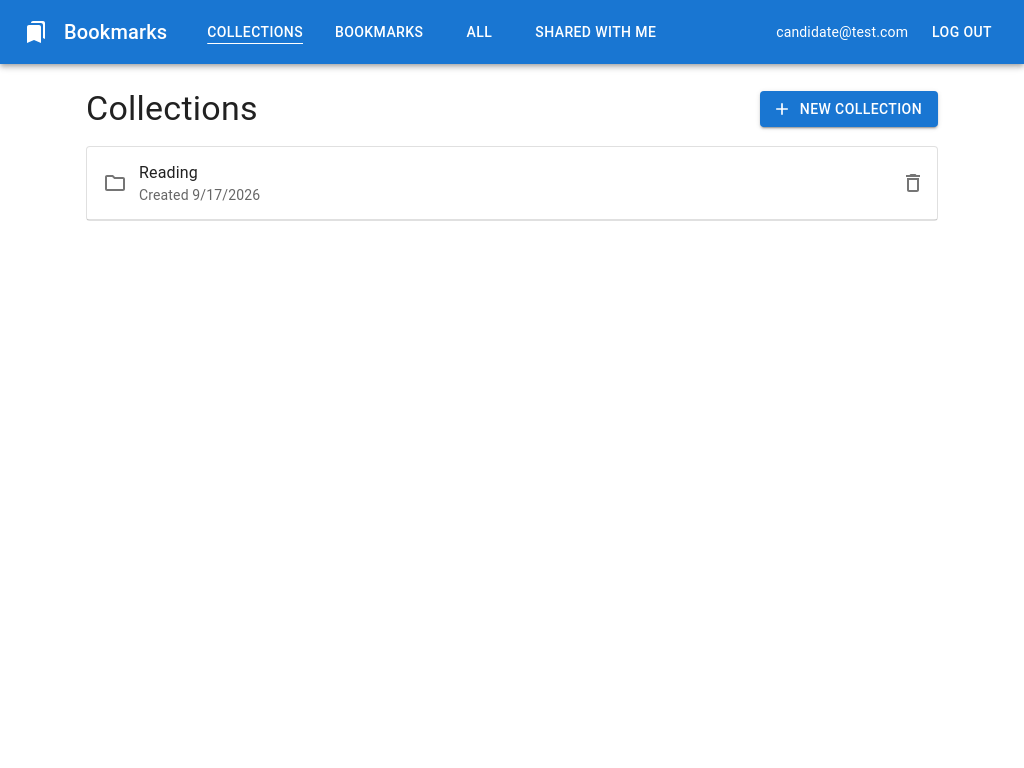
Test: /collections › delete confirmation (ADR-005b, ADR-018i) › empty collection: one confirmation, DELETE without confirm, list refreshes
Click the button named "Delete Reading" at (913, 183), box [893,163,933,203]
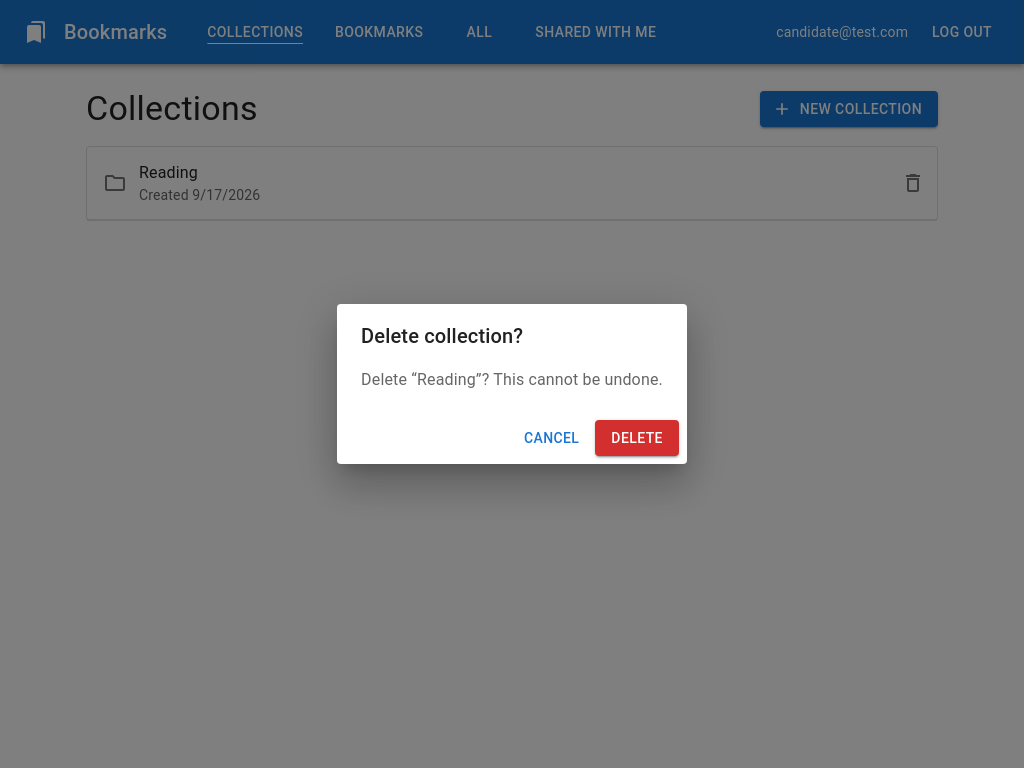
Click the button "Delete" at (637, 438), box [595,420,679,456]
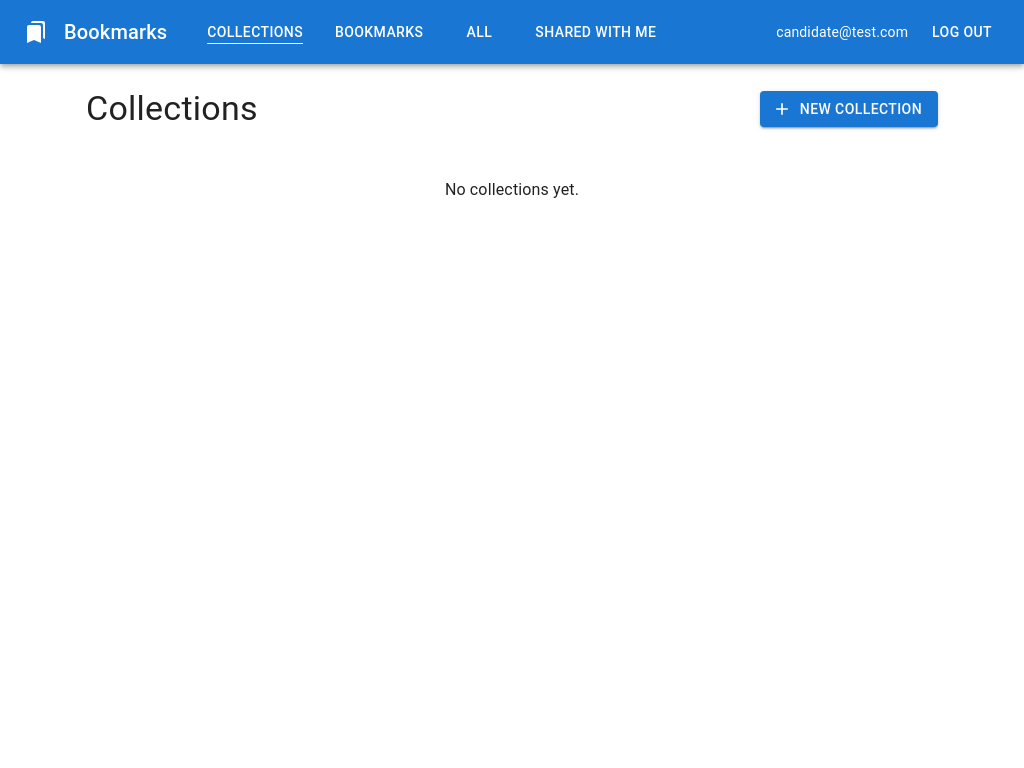
Expected: the dialog is gone
Expected: the text "No collections yet." is shown, [445,180,579,199]
